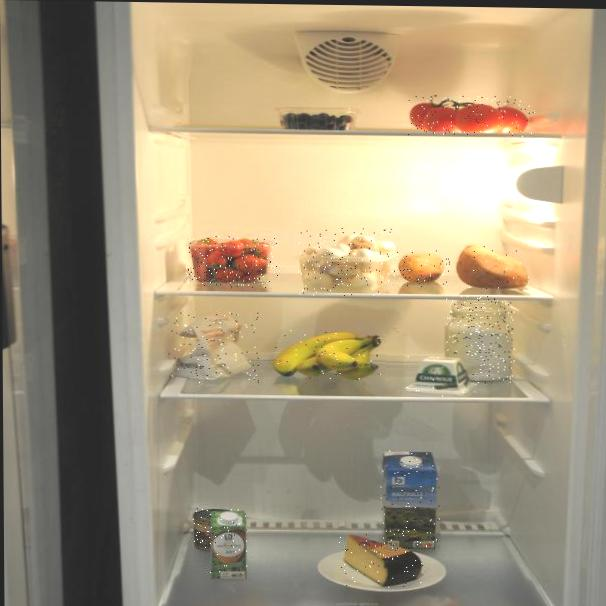banana: (273, 331, 386, 382)
blueberries: (275, 106, 362, 131)
cheese: (339, 532, 426, 589)
corn: (193, 508, 239, 552)
flour: (168, 312, 259, 384)
goat_cheese: (405, 354, 478, 397)
heavy_cream: (210, 510, 247, 579)
milk: (380, 450, 442, 552)
mushrooms: (297, 227, 396, 297)
strawberries: (186, 236, 279, 288)
sugar: (445, 296, 515, 384)
sweet_potato: (454, 245, 532, 291), (397, 250, 450, 288)
tomato: (408, 95, 535, 137)
